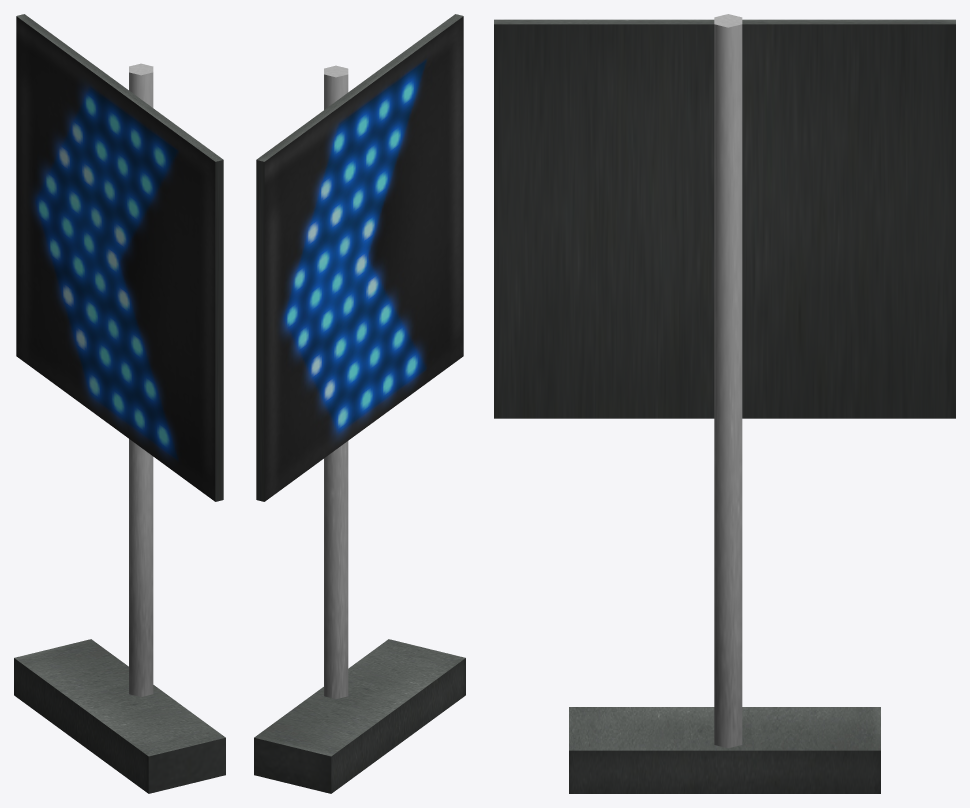
File: zhishi_BB.FBX
3 renders of one model, left to right at view 1: azimuth 30°, elevation 25°; view 2: azimuth 150°, elevation 25°; view 3: azimuth 270°, elevation 25°, orthographic. The views are drawn at different scales.
Parts seen in each view (by area): view 1: zhishi_BB; view 2: zhishi_BB; view 3: zhishi_BB.
Boxes of the visible parts, x1,y1,x2,y2 form: zhishi_BB: (14, 14, 225, 793); zhishi_BB: (254, 14, 465, 793); zhishi_BB: (494, 14, 955, 793).
Size of the model in its own units: 15.63 by 128 by 69.86.
